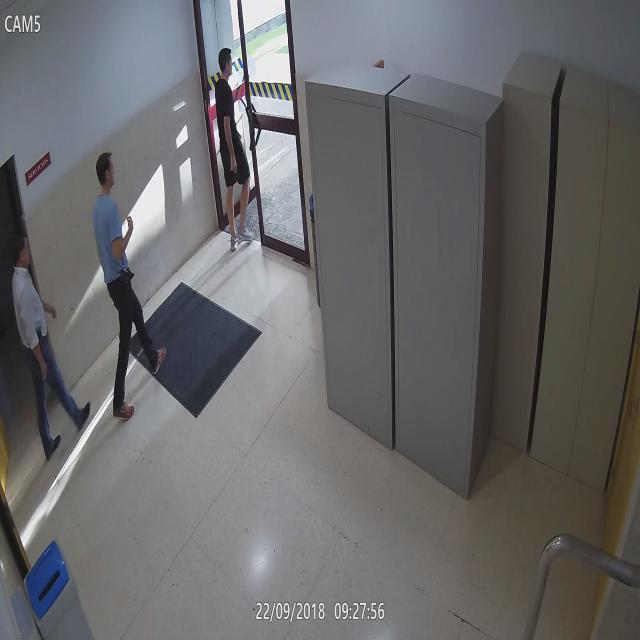gun: (119, 267, 133, 298), (228, 159, 241, 185), (34, 324, 44, 344)
